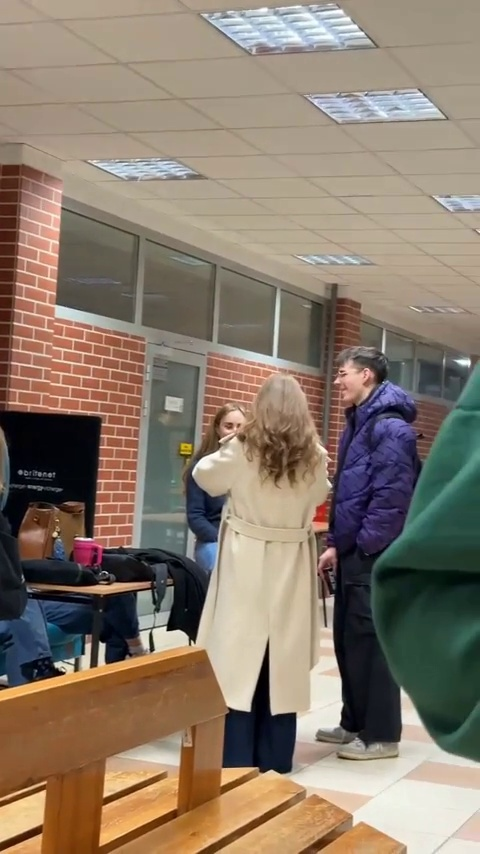no vest: (212, 374, 325, 730), (326, 341, 424, 735)
